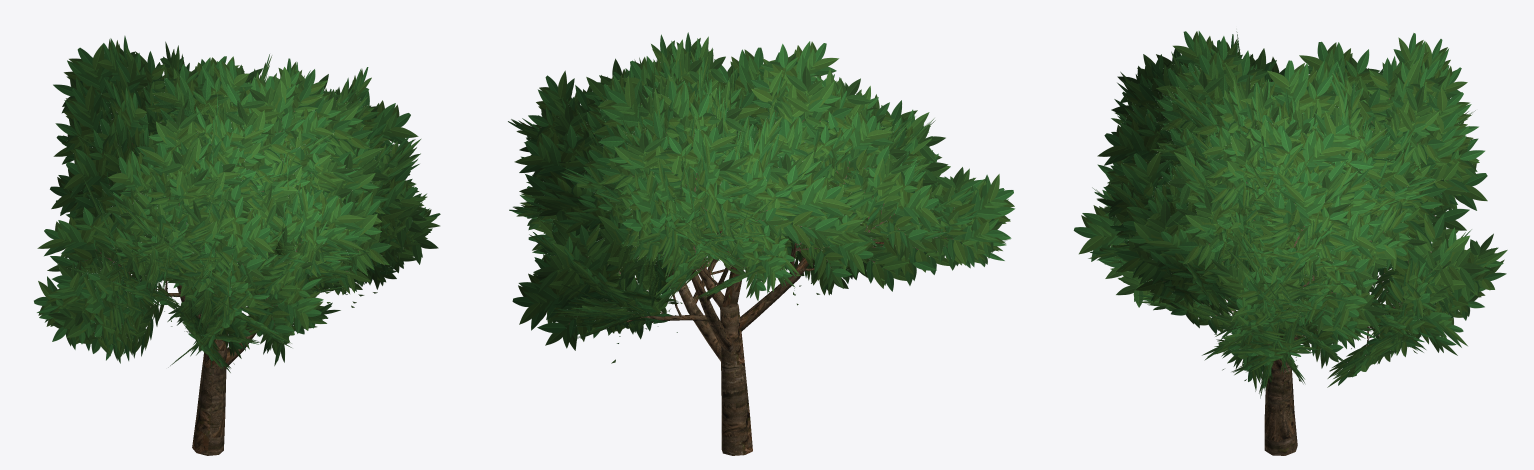
Rendered from veg_tree_shade_a.glb.
The picture shows the model from 3 angles, left to right: view 1: azimuth 30°, elevation 25°; view 2: azimuth 150°, elevation 25°; view 3: azimuth 270°, elevation 25°; orthographic projection. The views are drawn at different scales.
Parts seen in each view (by area): view 1: Leaves, Trunk; view 2: Leaves, Trunk; view 3: Leaves, Trunk.
Part boxes in pixels (x1,y1,x2,y2): Leaves: [34, 36, 440, 374]; Trunk: [127, 201, 258, 455]; Leaves: [508, 32, 1015, 363]; Trunk: [626, 148, 894, 455]; Leaves: [1073, 31, 1507, 398]; Trunk: [1226, 229, 1393, 455].
Size of the model in its own units: 40.59 by 33.2 by 32.48.
Materials: 2 (2 with a texture image).
